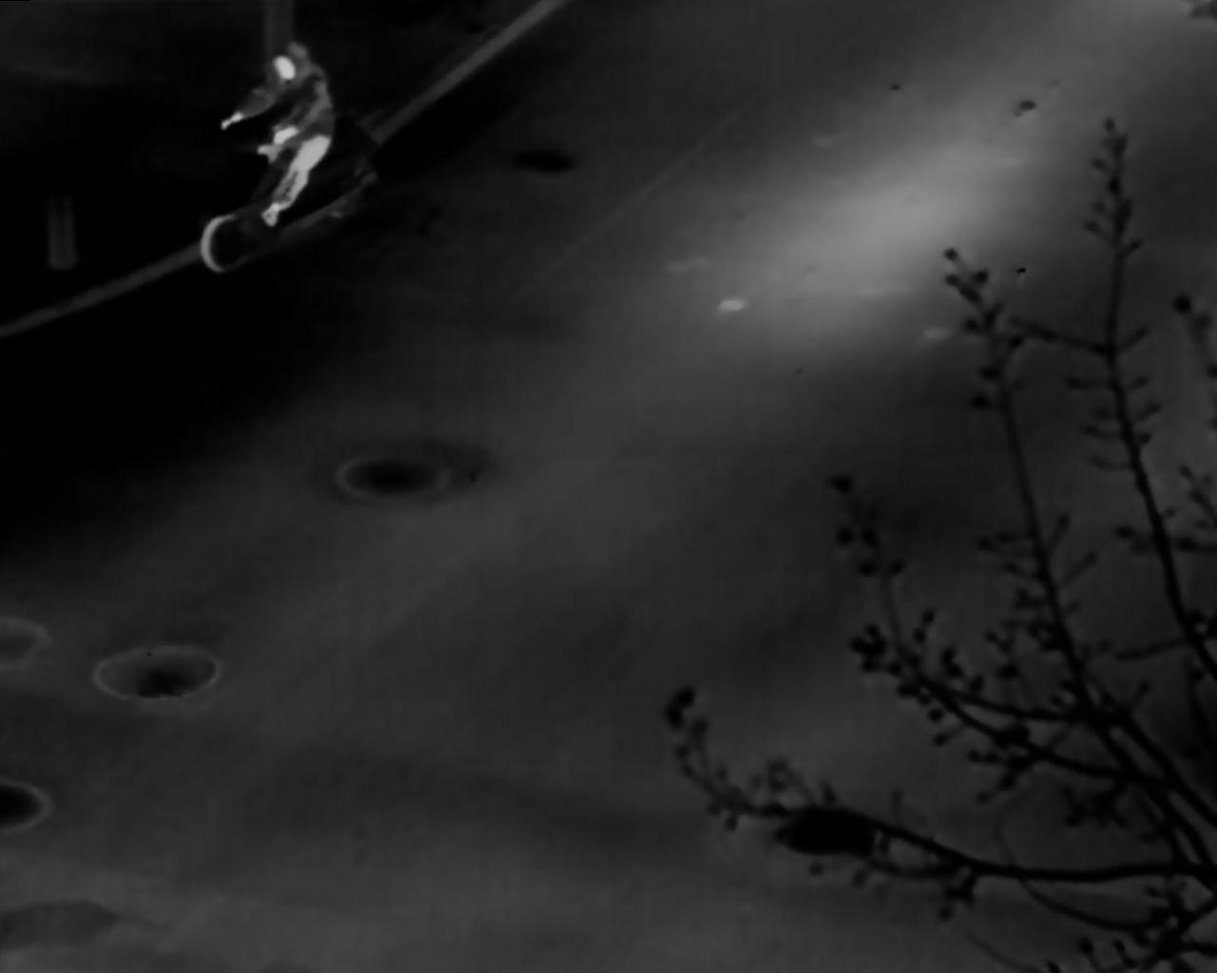person: (220, 39, 334, 228)
